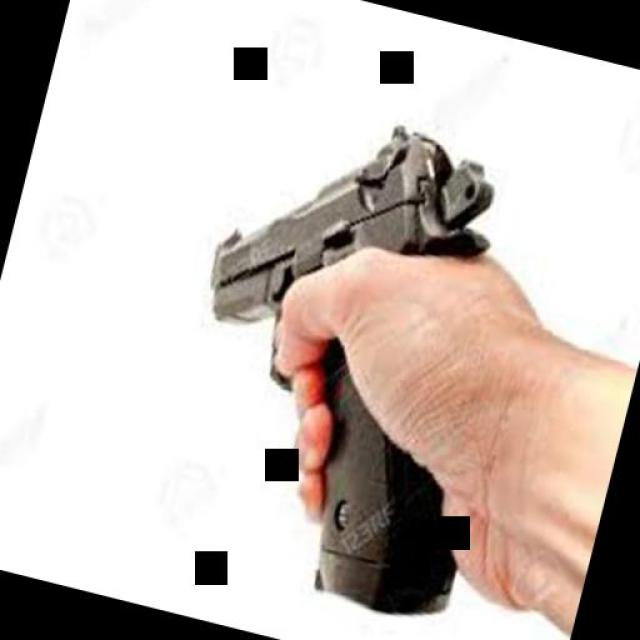gun: (137, 63, 565, 626)
